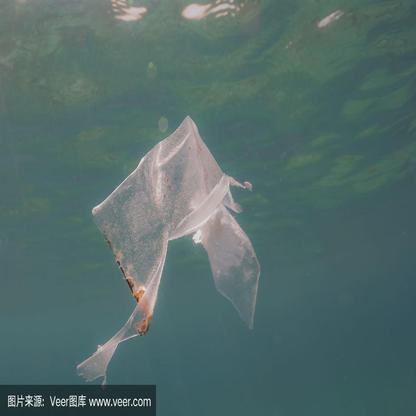plastic bag: (68, 114, 263, 382)
